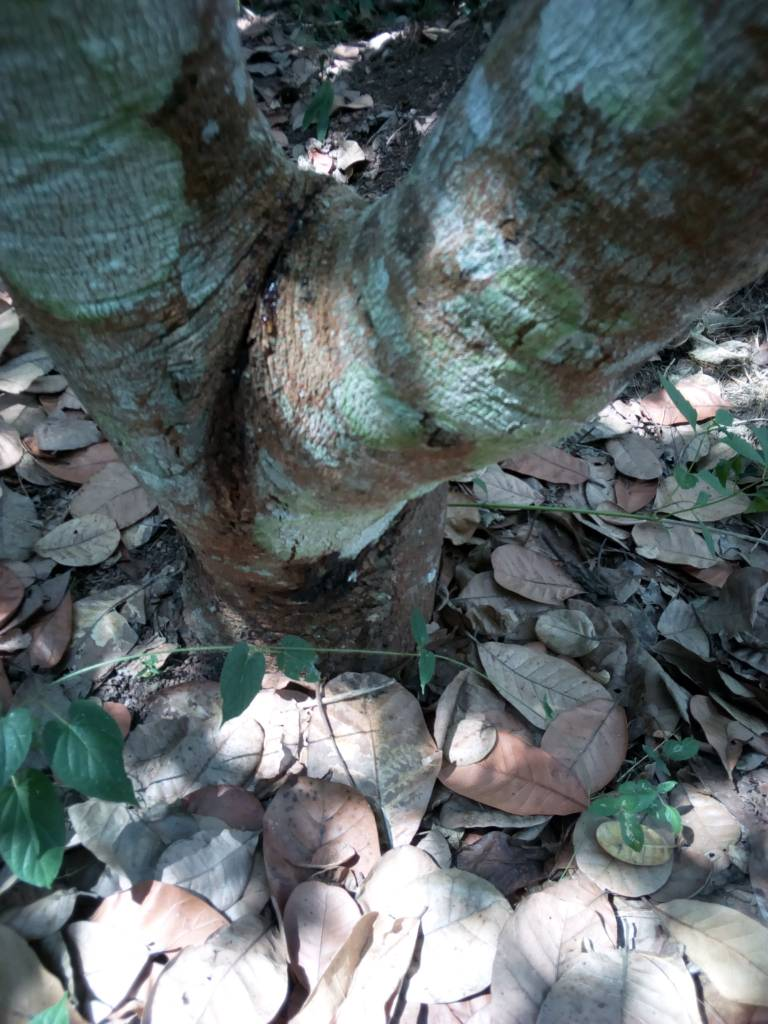Gommose: (222, 207, 275, 500), (290, 566, 382, 619)
